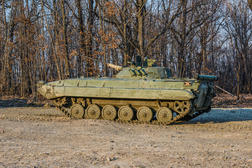bmp: (39, 50, 217, 125)
